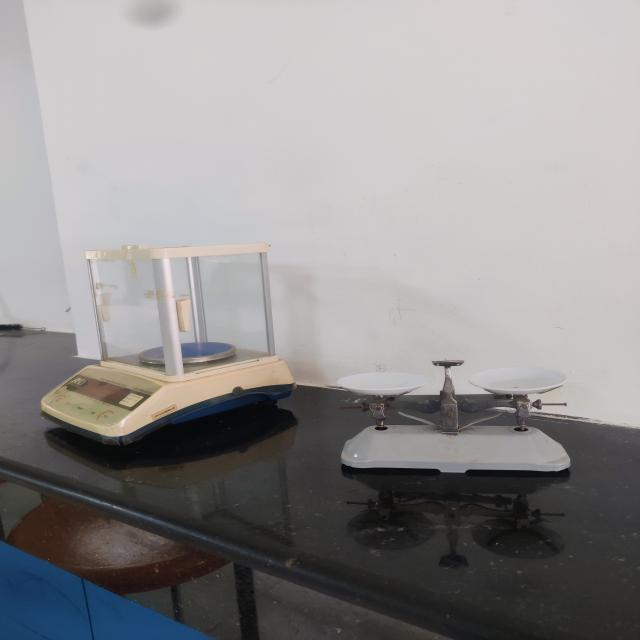Mechanical_Balance_Scale: (323, 345, 585, 497)
Precision_Weight_Scale: (28, 224, 303, 448)
